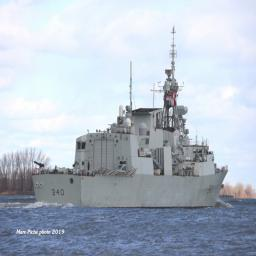Fragata: (30, 22, 233, 213)
